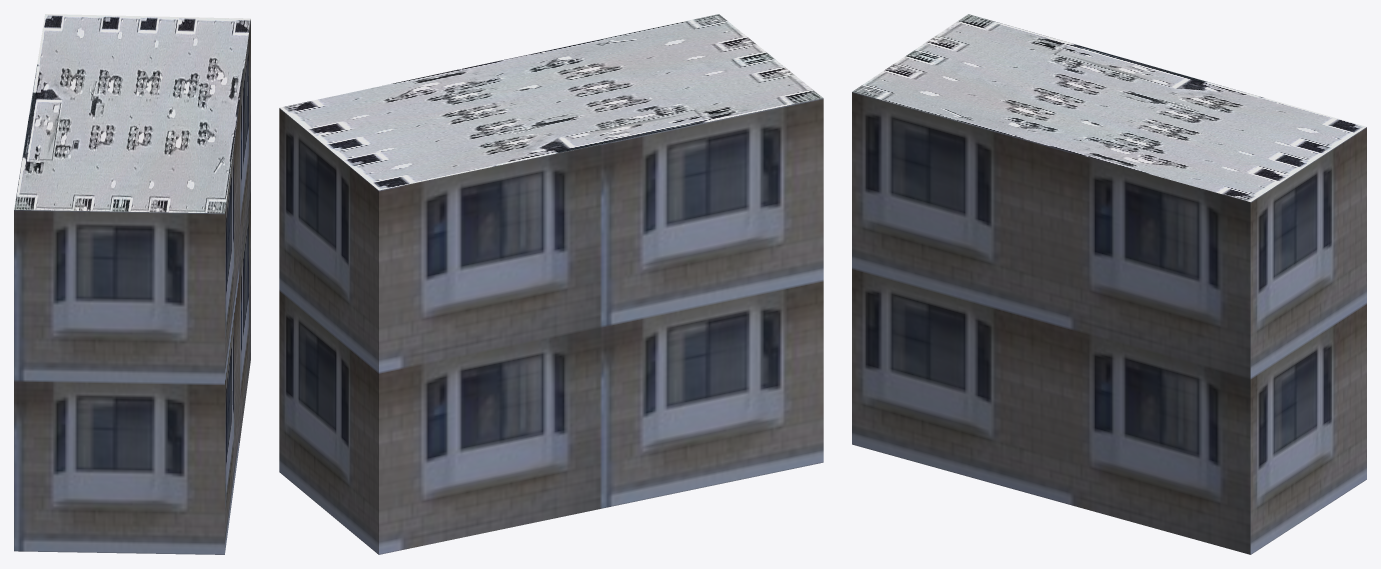
The model's file is ResTex__2040.fbx.
3 views of the same model, side by side, from view 1: azimuth 30°, elevation 25°; view 2: azimuth 150°, elevation 25°; view 3: azimuth 270°, elevation 25° (orthographic). The views are drawn at different scales.
Visible parts, largest first — view 1: CityEngineMaterial_3_m, CityEngineMaterial_2_m; view 2: CityEngineMaterial_3_m, CityEngineMaterial_2_m; view 3: CityEngineMaterial_3_m, CityEngineMaterial_2_m.
Part boxes in pixels (x1,y1,x2,y2): CityEngineMaterial_3_m: (14, 19, 250, 554); CityEngineMaterial_2_m: (14, 14, 250, 213); CityEngineMaterial_3_m: (279, 98, 823, 554); CityEngineMaterial_2_m: (279, 14, 823, 190); CityEngineMaterial_3_m: (852, 92, 1366, 554); CityEngineMaterial_2_m: (852, 14, 1366, 201).
Size of the model in its own units: 6.87 by 6 by 7.94.
Materials: 2 (2 with a texture image).
